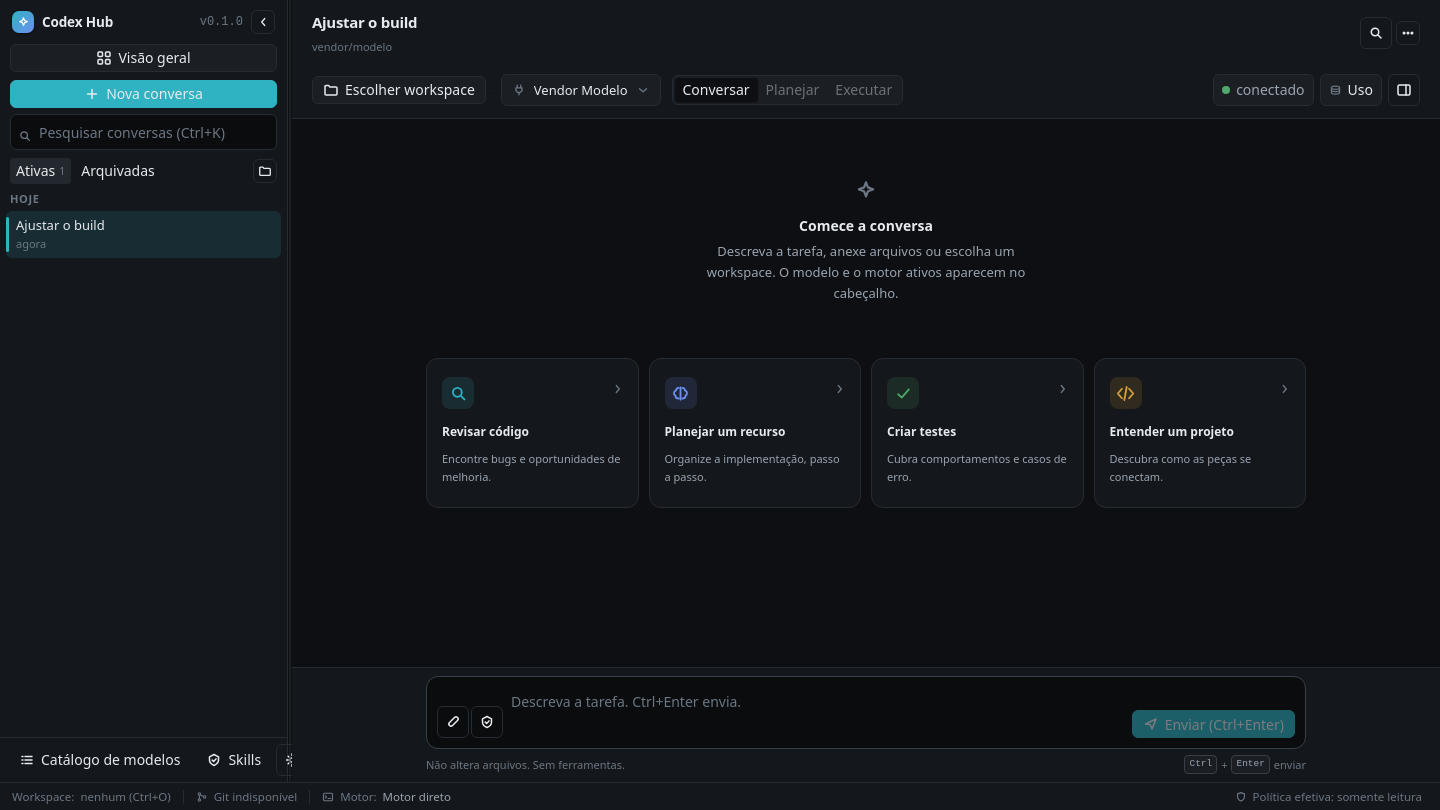
Test case: App — conversas e streaming › aplica deltas de streaming vindos de eventos reais
Step 1. Click the text "Ajustar o build" → (60, 225), box [16,216,105,234]
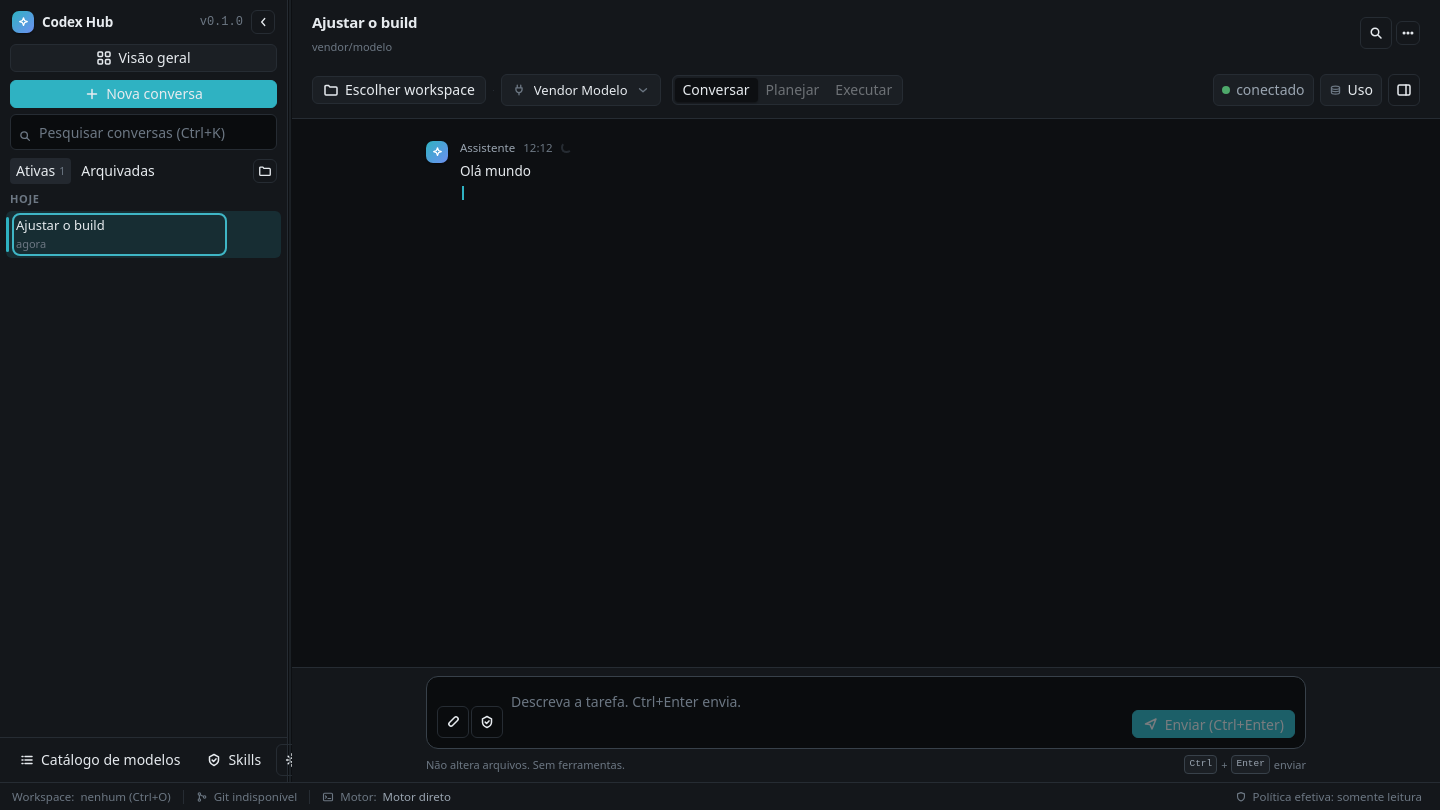
Now the text "Olá mundo" is shown, box [460,162,531,180]
